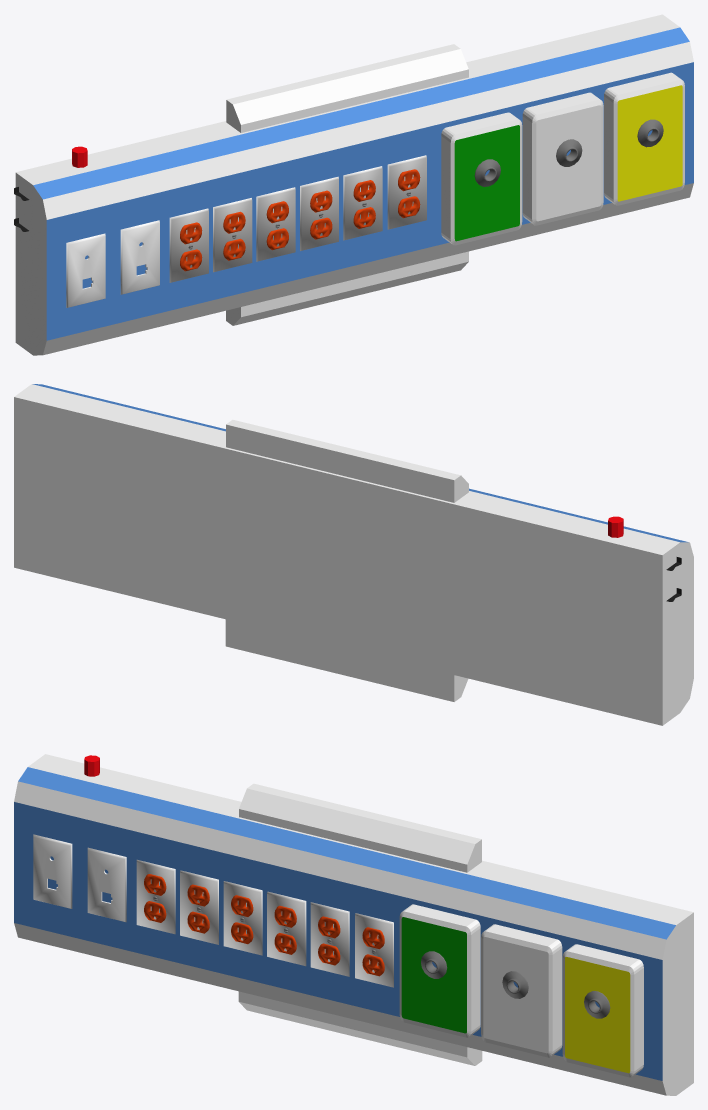
3 renders of one model, top to bottom at view 1: azimuth 30°, elevation 25°; view 2: azimuth 150°, elevation 25°; view 3: azimuth 330°, elevation 25°, orthographic.
Visible parts, largest first — view 1: PC-4a; view 2: PC-4a; view 3: PC-4a.
Part boxes in pixels (x1,y1,x2,y2): PC-4a: (14, 14, 693, 355); PC-4a: (14, 384, 693, 725); PC-4a: (14, 754, 693, 1095).
Size of the model in its own units: 120 by 39 by 14.29.
